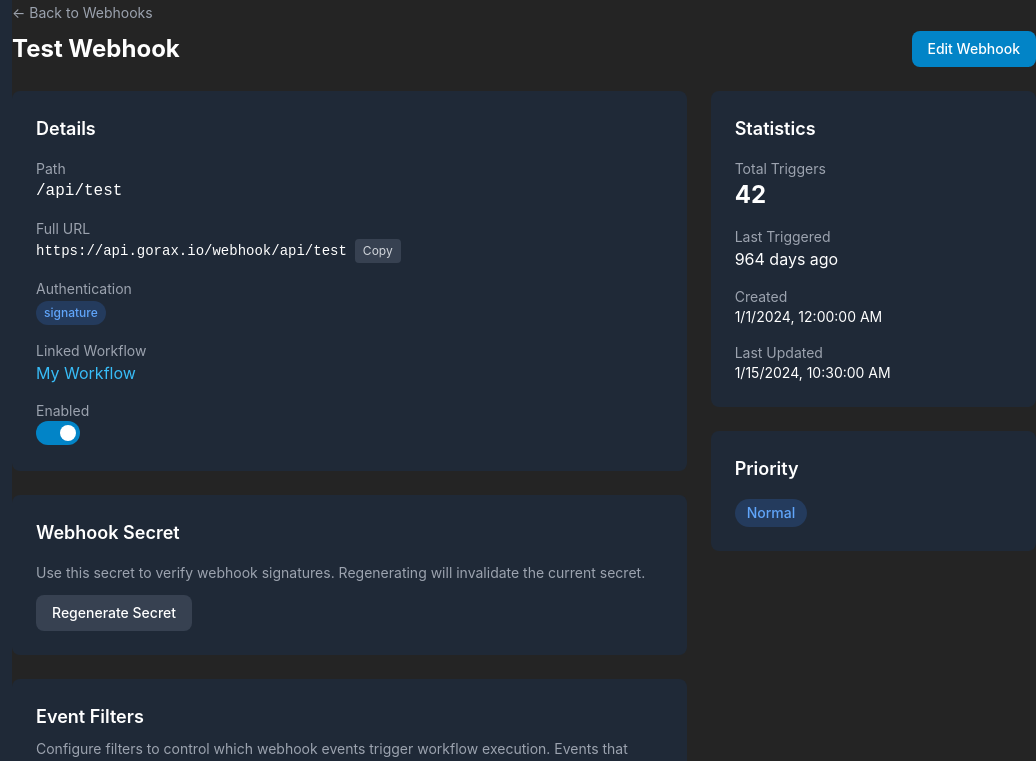
Test: WebhookDetail › Copy URL Functionality › should show error when copy fails
Click the button "Copy" at (378, 251), box [355,239,401,263]
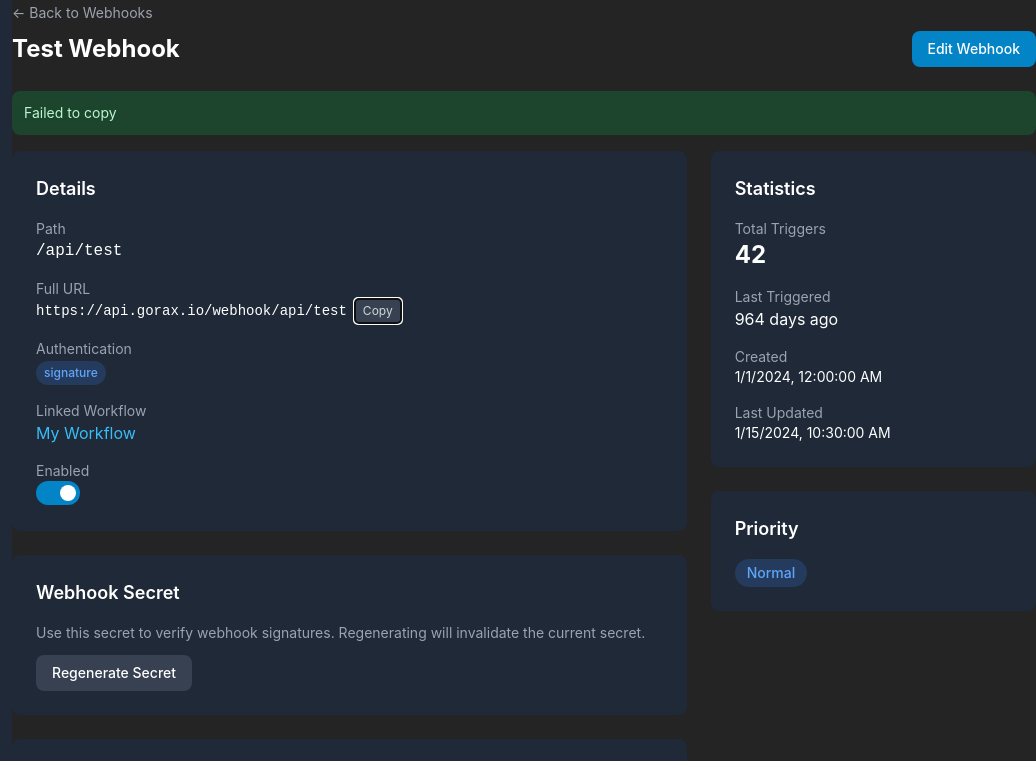
Expected: the text "Failed to copy" is shown, [12,91,1035,135]
